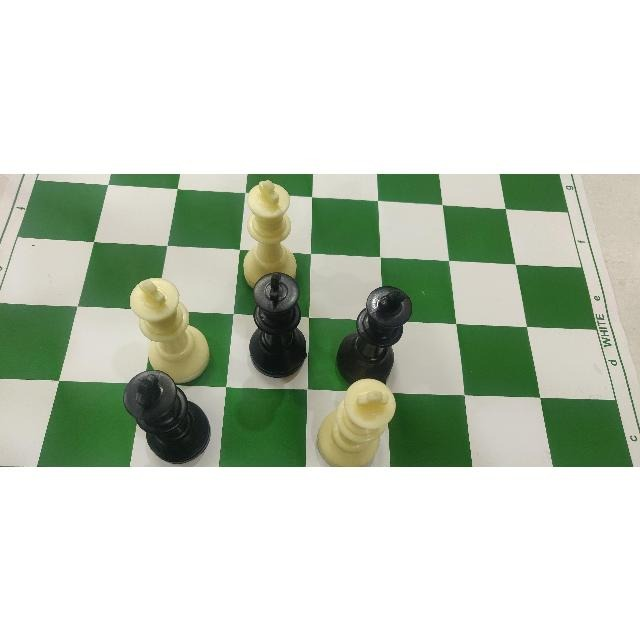black-king: (116, 362, 220, 460), (344, 280, 422, 386), (246, 273, 310, 383)
white-king: (121, 265, 212, 358), (227, 177, 308, 277), (323, 374, 401, 461)
